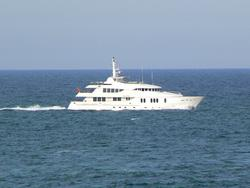yacht: (66, 63, 205, 116)
